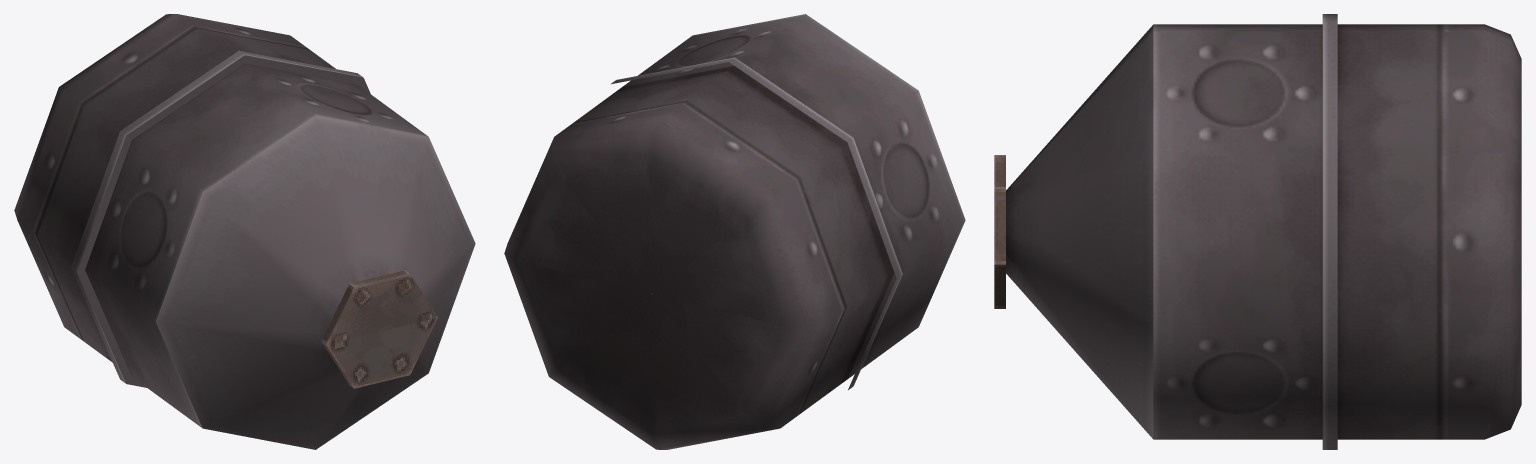
Rendered from centrifuge_drum_set.glb.
3 renders of one model, left to right at view 1: azimuth 30°, elevation 25°; view 2: azimuth 150°, elevation 25°; view 3: azimuth 270°, elevation 25°, orthographic. The views are drawn at different scales.
Visible parts, largest first — view 1: factory.centrifuge_drum_set-MeshSets[centrifuge_short].Mesh[ (×2), factory.centrifuge_drum_set-MeshSets[centrifuge_tall].Mesh[0; view 2: factory.centrifuge_drum_set-MeshSets[centrifuge_tall].Mesh[0, factory.centrifuge_drum_set-MeshSets[centrifuge_short].Mesh[; view 3: factory.centrifuge_drum_set-MeshSets[centrifuge_tall].Mesh[0, factory.centrifuge_drum_set-MeshSets[centrifuge_short].Mesh[ (×2).
Boxes of the visible parts, x1,y1,x2,y2 form: factory.centrifuge_drum_set-MeshSets[centrifuge_short].Mesh[ (×2): [71, 50, 475, 449]; factory.centrifuge_drum_set-MeshSets[centrifuge_tall].Mesh[0: [14, 14, 474, 449]; factory.centrifuge_drum_set-MeshSets[centrifuge_tall].Mesh[0: [504, 14, 965, 449]; factory.centrifuge_drum_set-MeshSets[centrifuge_short].Mesh[: [611, 14, 965, 389]; factory.centrifuge_drum_set-MeshSets[centrifuge_tall].Mesh[0: [1008, 14, 1521, 439]; factory.centrifuge_drum_set-MeshSets[centrifuge_short].Mesh[ (×2): [994, 14, 1337, 449].
Bounding box in the file's own units: 3.15 × 3.15 × 3.58.
2 materials, 2 textured.
